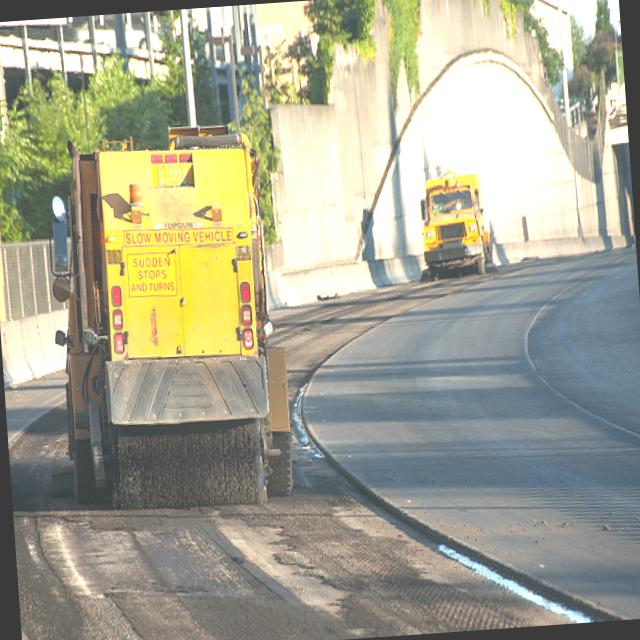Vehicle: (35, 104, 308, 527), (417, 166, 494, 280)
